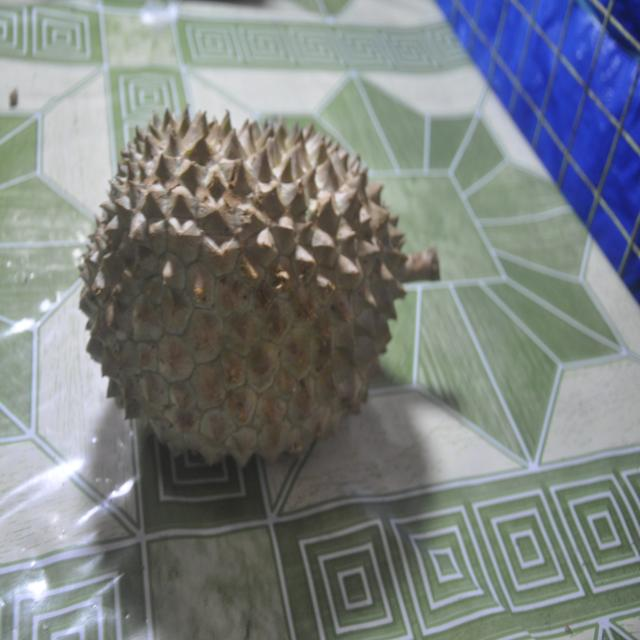mature: (80, 111, 438, 464)
